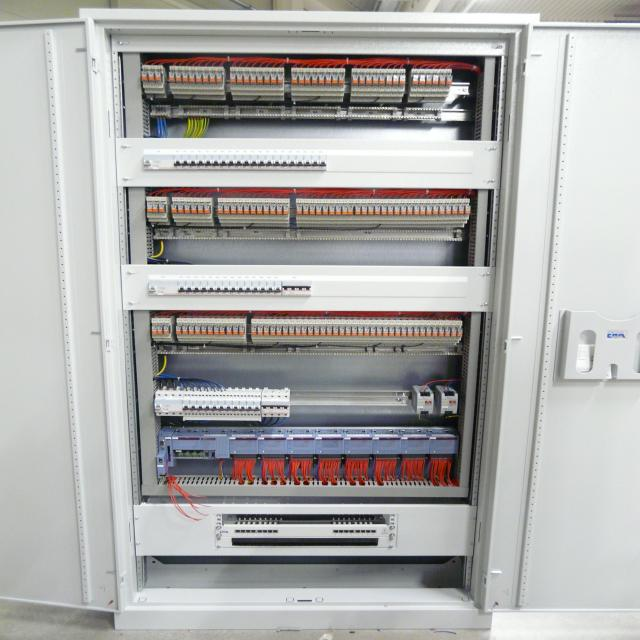FI: (261, 395, 290, 417), (282, 281, 312, 297)
FI_Sicherungskombi: (154, 393, 184, 416), (144, 155, 174, 170), (149, 281, 179, 295)
Leitungsschutzschalter: (232, 394, 240, 417), (218, 394, 226, 417), (253, 395, 261, 417), (246, 395, 254, 417), (239, 395, 247, 417), (225, 394, 233, 416), (211, 394, 219, 416), (204, 394, 212, 416), (197, 394, 205, 416), (190, 394, 198, 416), (183, 394, 191, 416), (304, 155, 313, 170), (288, 155, 297, 170), (234, 155, 243, 170), (219, 155, 228, 170), (173, 155, 182, 170), (181, 155, 190, 170), (207, 281, 216, 296), (227, 154, 235, 170), (296, 156, 305, 170), (229, 281, 238, 295), (214, 281, 223, 295), (192, 281, 201, 295), (281, 155, 289, 170), (273, 155, 281, 170), (265, 155, 273, 170), (258, 155, 266, 170), (250, 155, 258, 170), (243, 155, 251, 170), (212, 155, 220, 170), (204, 155, 212, 170), (189, 155, 197, 170), (274, 281, 282, 296), (259, 281, 267, 296), (196, 155, 204, 169), (244, 281, 252, 295), (237, 281, 245, 295), (222, 281, 230, 295), (200, 281, 208, 295), (319, 155, 326, 170), (312, 155, 319, 170), (267, 281, 274, 296), (185, 282, 193, 295), (252, 282, 259, 296), (179, 281, 186, 295)
Relais: (352, 72, 359, 85), (291, 72, 298, 84), (298, 72, 305, 84), (338, 73, 345, 85), (399, 73, 406, 85), (359, 72, 365, 85), (141, 71, 148, 82), (148, 71, 155, 82), (155, 71, 162, 82), (169, 72, 176, 83), (175, 72, 182, 83), (182, 72, 189, 83), (305, 72, 311, 84), (312, 72, 318, 84), (325, 72, 331, 84), (332, 72, 338, 84), (366, 73, 372, 85), (379, 73, 385, 85), (386, 73, 392, 85), (393, 73, 399, 85), (277, 74, 284, 84), (412, 75, 419, 85), (432, 75, 439, 85), (446, 76, 453, 85), (177, 205, 184, 214), (230, 73, 236, 83), (271, 74, 277, 84), (319, 72, 324, 84), (373, 73, 378, 85), (419, 75, 425, 85), (426, 75, 432, 85), (439, 75, 445, 85), (204, 205, 211, 213), (184, 205, 191, 213), (444, 329, 451, 337), (163, 326, 170, 334), (196, 73, 202, 82), (210, 73, 216, 82), (216, 73, 222, 82), (237, 74, 243, 83), (244, 74, 250, 83), (257, 74, 263, 83), (264, 74, 270, 83), (465, 205, 471, 214), (439, 206, 445, 215), (407, 206, 413, 215), (381, 206, 387, 215), (368, 206, 374, 215), (355, 206, 361, 215), (303, 206, 309, 215), (316, 206, 322, 215), (329, 206, 335, 215), (342, 206, 348, 215), (283, 206, 289, 215), (270, 205, 276, 214), (263, 205, 269, 214), (237, 205, 243, 214), (218, 205, 224, 214), (224, 205, 230, 214), (231, 205, 237, 214), (198, 205, 204, 214), (159, 204, 165, 213), (152, 204, 158, 213), (457, 328, 463, 337), (451, 328, 457, 337), (438, 328, 444, 337), (432, 328, 438, 337), (326, 327, 332, 336), (314, 327, 320, 336), (307, 327, 313, 336), (301, 327, 307, 336), (270, 326, 276, 335), (251, 326, 257, 335), (257, 326, 263, 335), (226, 326, 232, 335), (195, 326, 201, 335), (182, 326, 188, 335), (452, 206, 458, 214), (191, 205, 197, 213), (171, 205, 177, 213), (426, 328, 432, 336), (420, 328, 426, 336), (407, 328, 413, 336), (401, 328, 407, 336), (395, 328, 401, 336), (376, 328, 382, 336), (370, 328, 376, 336), (364, 328, 370, 336), (358, 328, 364, 336), (339, 327, 345, 335), (320, 327, 326, 335), (295, 327, 301, 335), (276, 327, 282, 335), (239, 326, 245, 334), (176, 326, 182, 334), (157, 326, 163, 334), (189, 73, 194, 82), (203, 73, 208, 82), (251, 74, 256, 83), (427, 206, 432, 215), (420, 206, 425, 215), (414, 206, 419, 215), (401, 206, 406, 215), (395, 206, 400, 215), (388, 206, 393, 215), (375, 206, 380, 215), (362, 206, 367, 215), (297, 206, 302, 215), (310, 206, 315, 215), (323, 206, 328, 215), (336, 206, 341, 215), (348, 206, 353, 215), (277, 206, 282, 215), (257, 205, 262, 214), (251, 205, 256, 214), (244, 205, 249, 214), (383, 328, 388, 337), (352, 327, 357, 336), (346, 327, 351, 336), (233, 326, 238, 335), (220, 326, 225, 335), (214, 326, 219, 335), (208, 326, 213, 335), (459, 206, 464, 214), (433, 207, 438, 215), (147, 204, 152, 212), (414, 328, 419, 336), (389, 328, 394, 336), (333, 327, 338, 335), (289, 327, 294, 335), (283, 327, 288, 335), (264, 327, 269, 335), (202, 326, 207, 334), (189, 326, 194, 334), (152, 326, 157, 334), (446, 207, 451, 214)
SPS_System_Steuerungskomponente: (156, 436, 201, 479), (201, 436, 230, 459), (372, 436, 401, 455), (229, 436, 258, 454), (258, 436, 287, 454), (344, 437, 373, 455), (401, 436, 430, 454), (430, 436, 459, 454), (286, 437, 315, 454), (316, 437, 344, 454)
netzteile: (417, 393, 434, 414), (441, 393, 458, 414)
